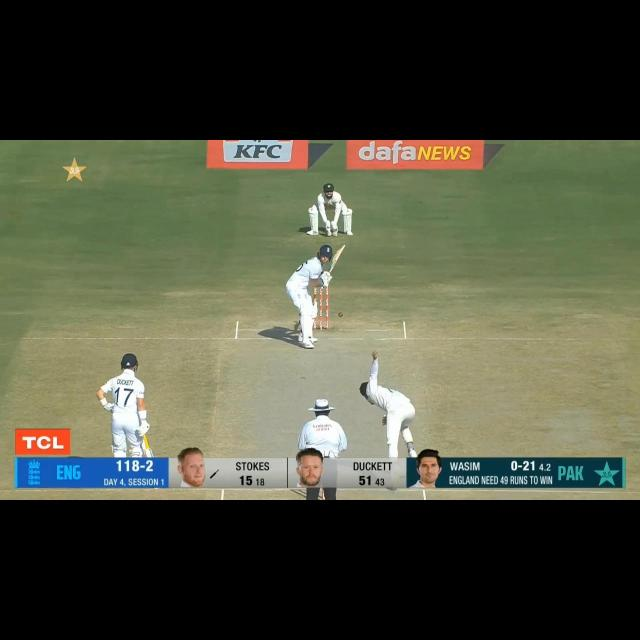bat: (327, 244, 348, 274), (145, 449, 157, 460)
toe: (335, 242, 348, 252)
